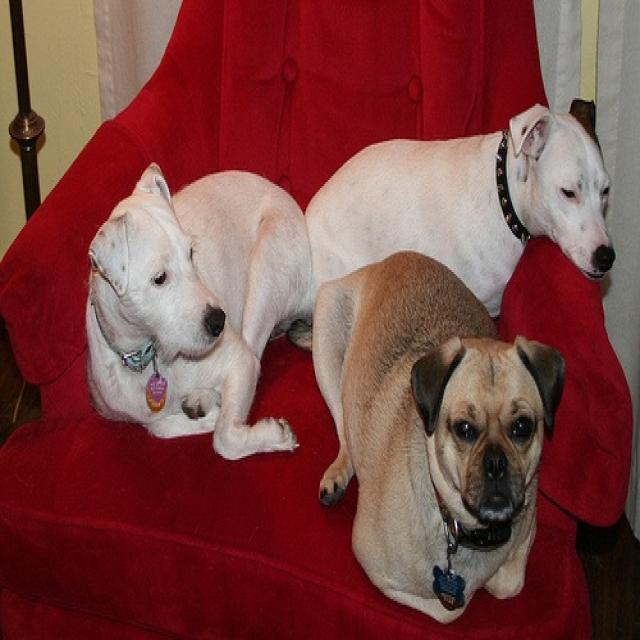chair: (2, 4, 630, 638)
dog: (309, 252, 567, 618), (302, 98, 618, 346), (85, 162, 314, 458)
